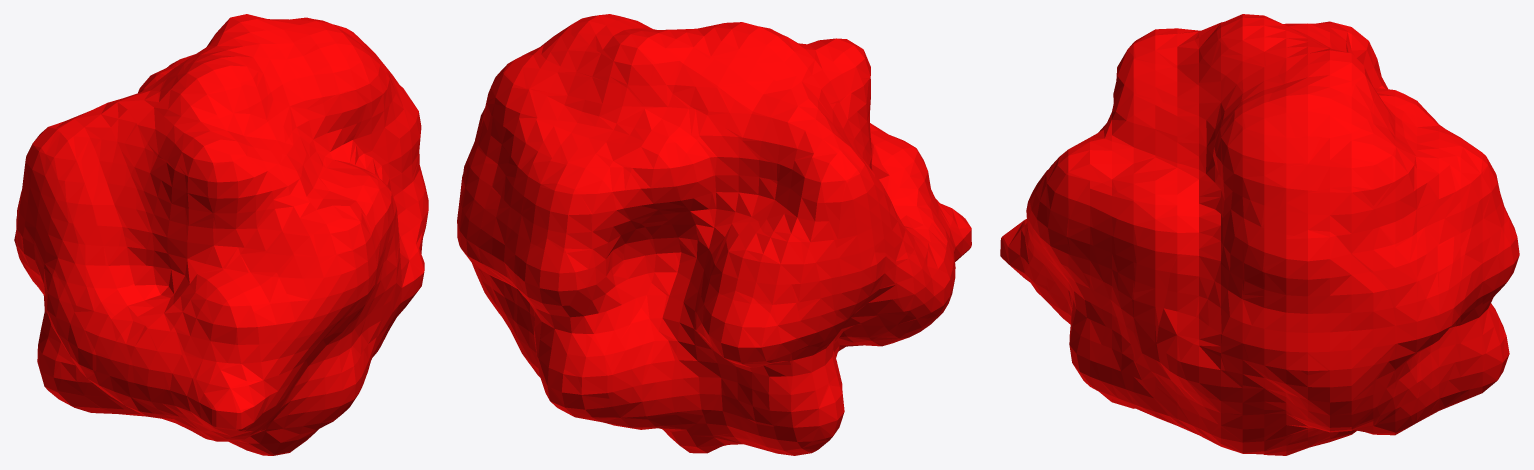
Rendered from pyrC_coarse.dae.
The picture shows the model from 3 angles, left to right: view 1: azimuth 30°, elevation 25°; view 2: azimuth 150°, elevation 25°; view 3: azimuth 270°, elevation 25°; orthographic projection. The views are drawn at different scales.
Visible parts, largest first — view 1: pyrC; view 2: pyrC; view 3: pyrC.
Part boxes in pixels (x1,y1,x2,y2): pyrC: [14, 14, 428, 455]; pyrC: [457, 14, 971, 455]; pyrC: [1000, 14, 1519, 455].
Bounding box in the file's own units: 55.51 × 51.34 × 58.34.
